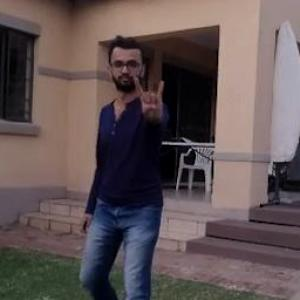takeoff-hand: (131, 69, 178, 122)
